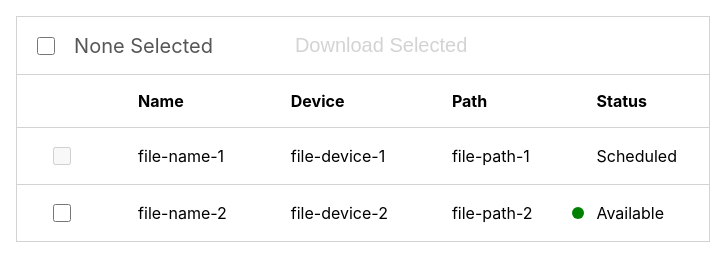
Test case: it enables the download button when items are selected
The image size is (727, 259).
Click the checkbox named "Select file-name-2" at (62, 213), box 53,204 -> 71,222
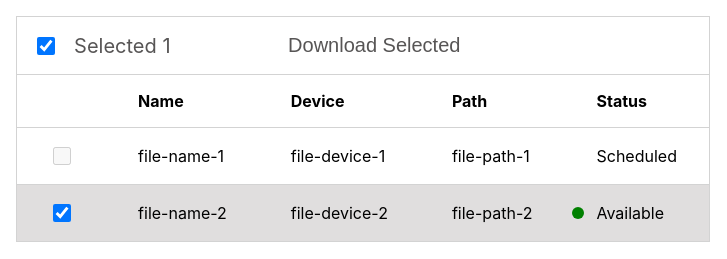
Now the button "Download Selected" is enabled, box 254,33 -> 466,58
